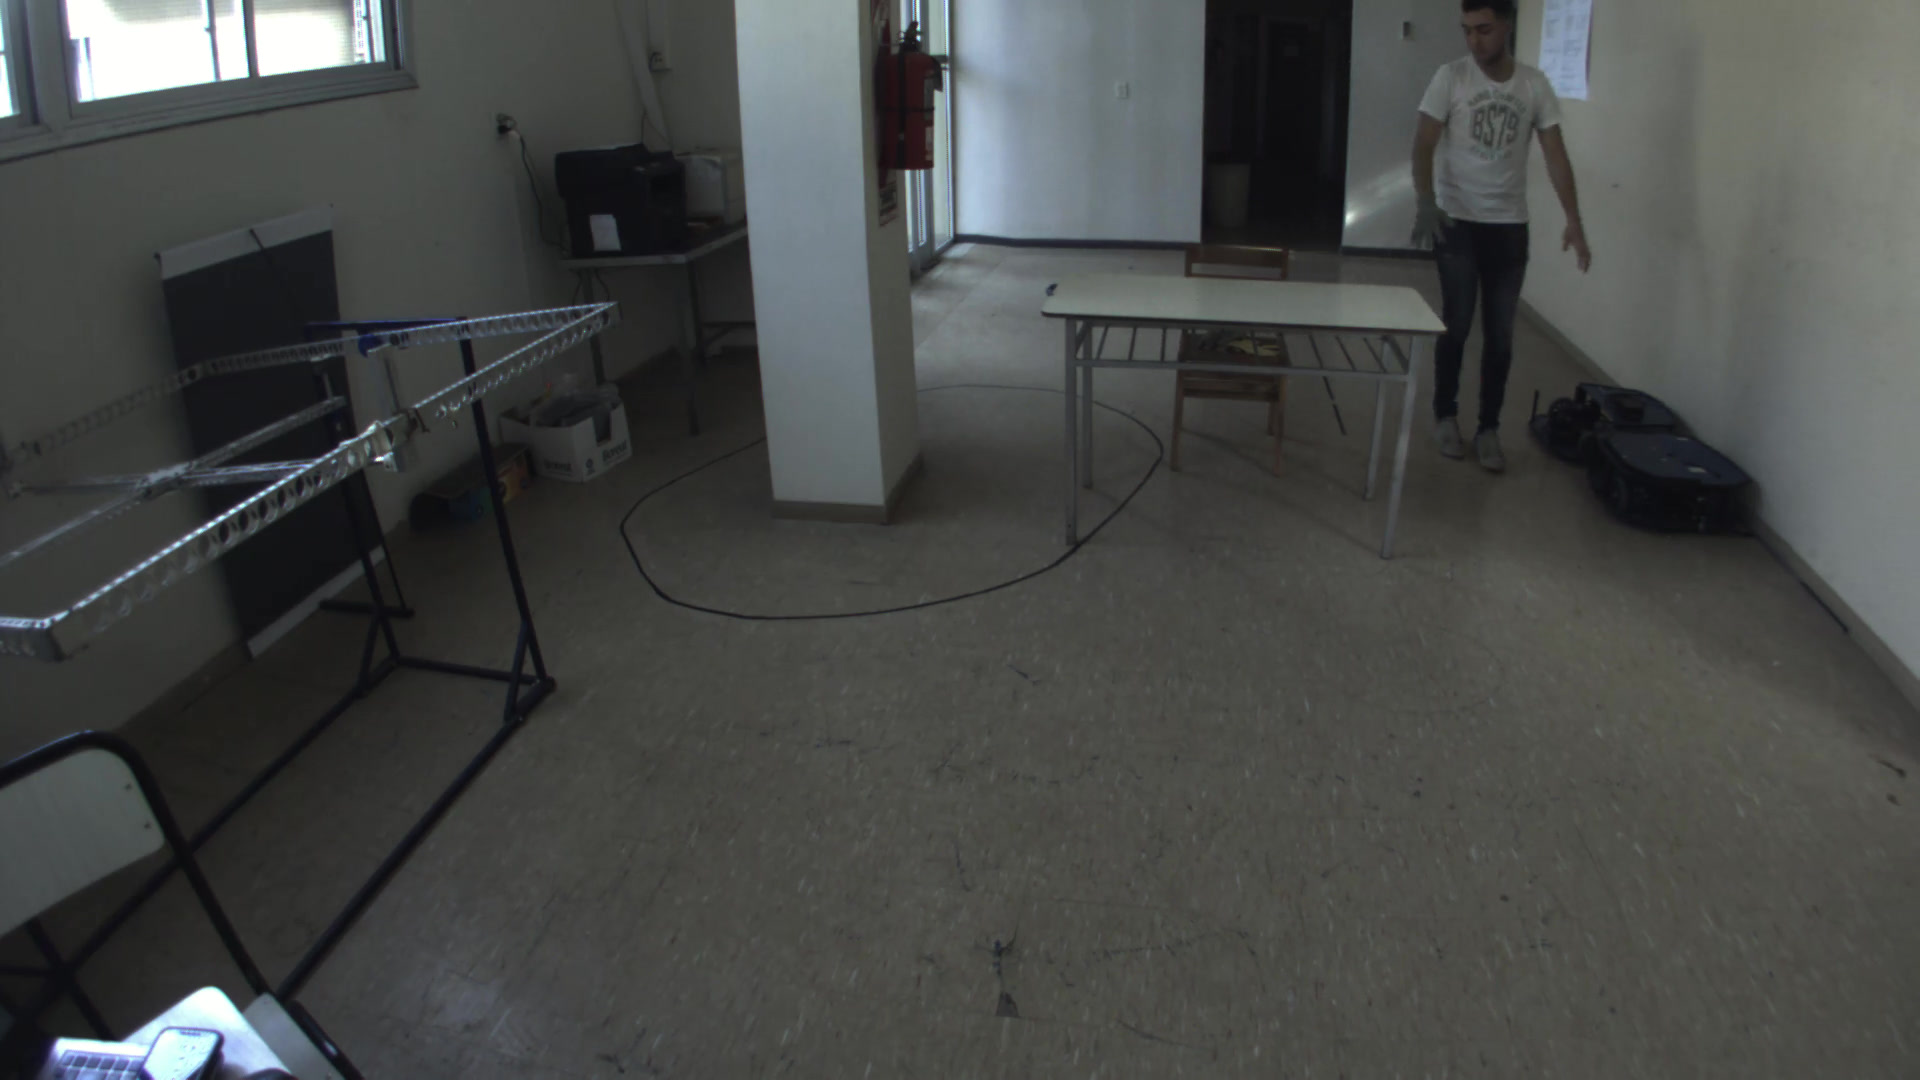hand: (1406, 195, 1466, 257), (1549, 206, 1601, 277)
